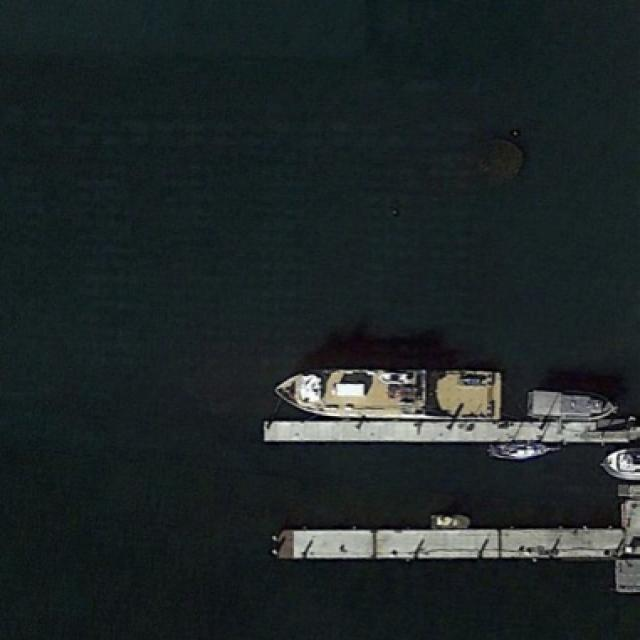boat: (270, 365, 502, 422), (524, 386, 618, 420), (489, 440, 554, 461), (426, 514, 474, 530)
